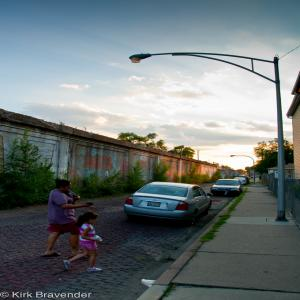Vehicle-registration-plate: (147, 203, 162, 208)
